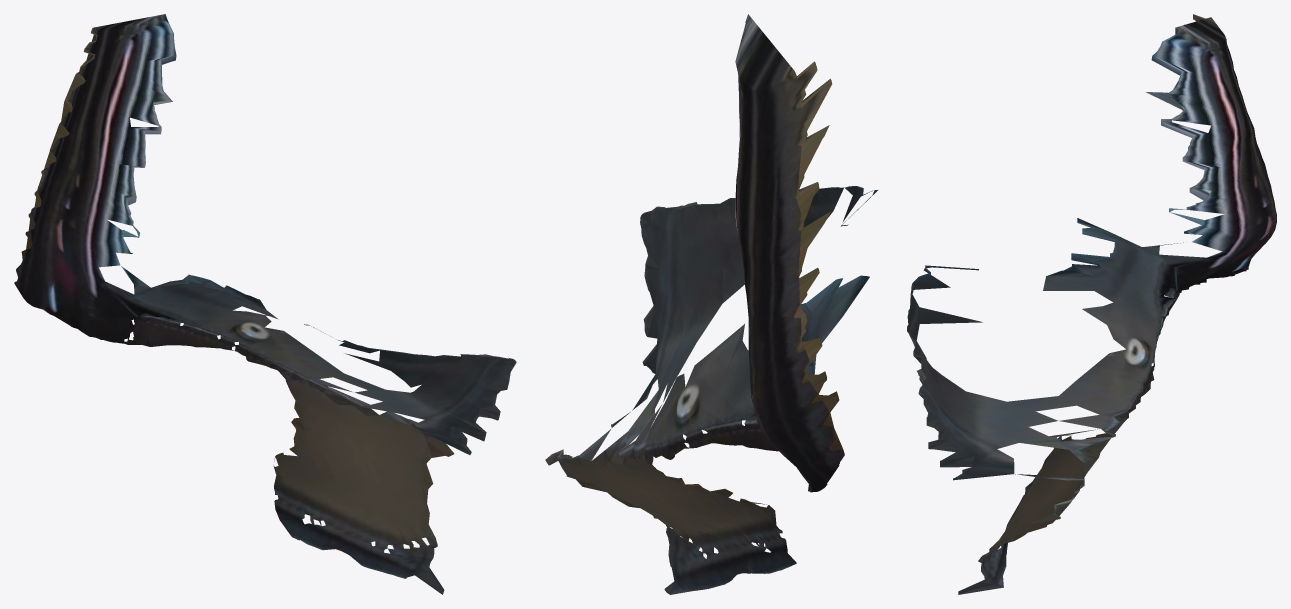
File: observed-surface.glb
3 renders of one model, left to right at view 1: azimuth 30°, elevation 25°; view 2: azimuth 150°, elevation 25°; view 3: azimuth 270°, elevation 25°, orthographic. The views are drawn at different scales.
Parts seen in each view (by area): view 1: geometry_0; view 2: geometry_0; view 3: geometry_0.
Boxes of the visible parts, bbox=[...] form: geometry_0: bbox=[14, 14, 516, 594]; geometry_0: bbox=[545, 14, 877, 594]; geometry_0: bbox=[907, 14, 1276, 594].
Size of the model in its own units: 0.4342 by 0.6816 by 0.4616.
Materials: 1 (1 with a texture image).
